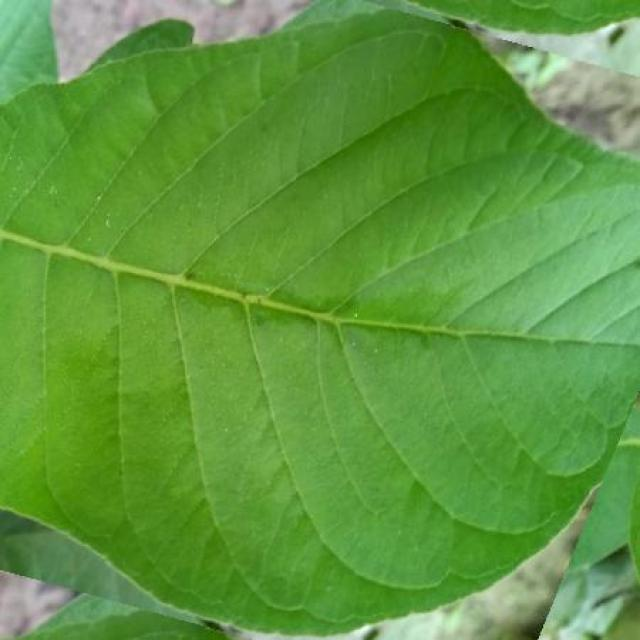Disease Free: (0, 2, 640, 632)
